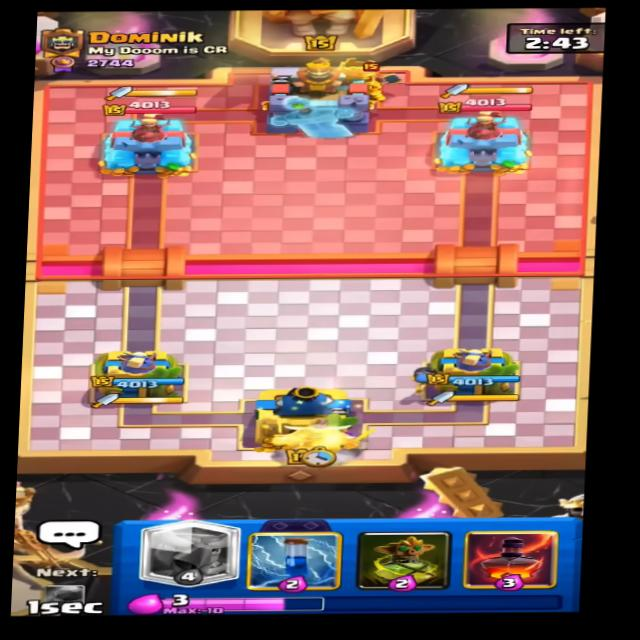Valk: (350, 61, 408, 91)
